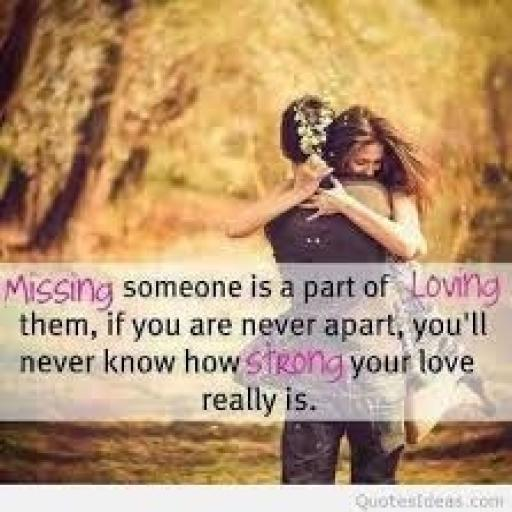hugging: (220, 93, 434, 485)
